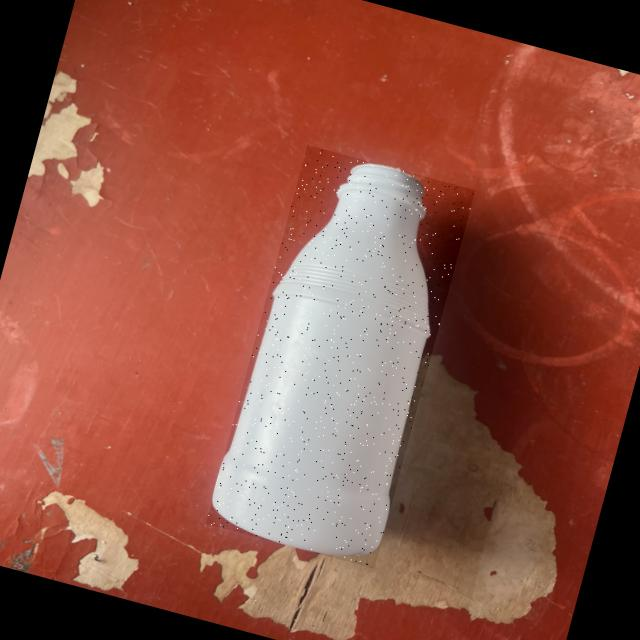HDPE_Bottle: (212, 164, 428, 555)
